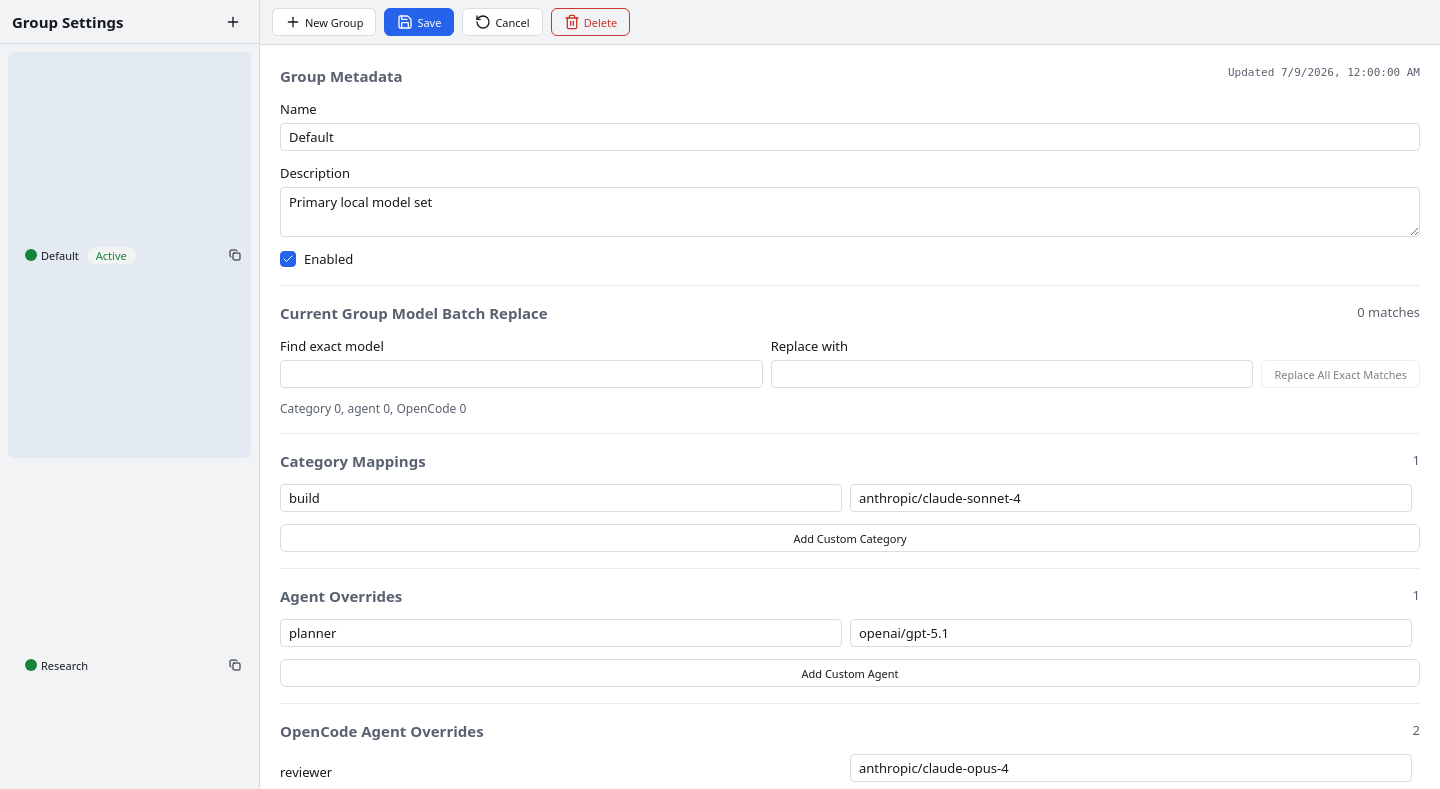
Test: Groups settings components › keeps list actions, selection, badges, metadata, mappings, and replace behavior
Expected: the heading "Group Settings" is shown, [12,10,123,32]
Expected: the icon "Active" is shown, [87,246,136,264]
Type "anthropic/claude-sonnet-4" into the field labelled "Find exact model" at (521, 374), box [280,360,763,388]
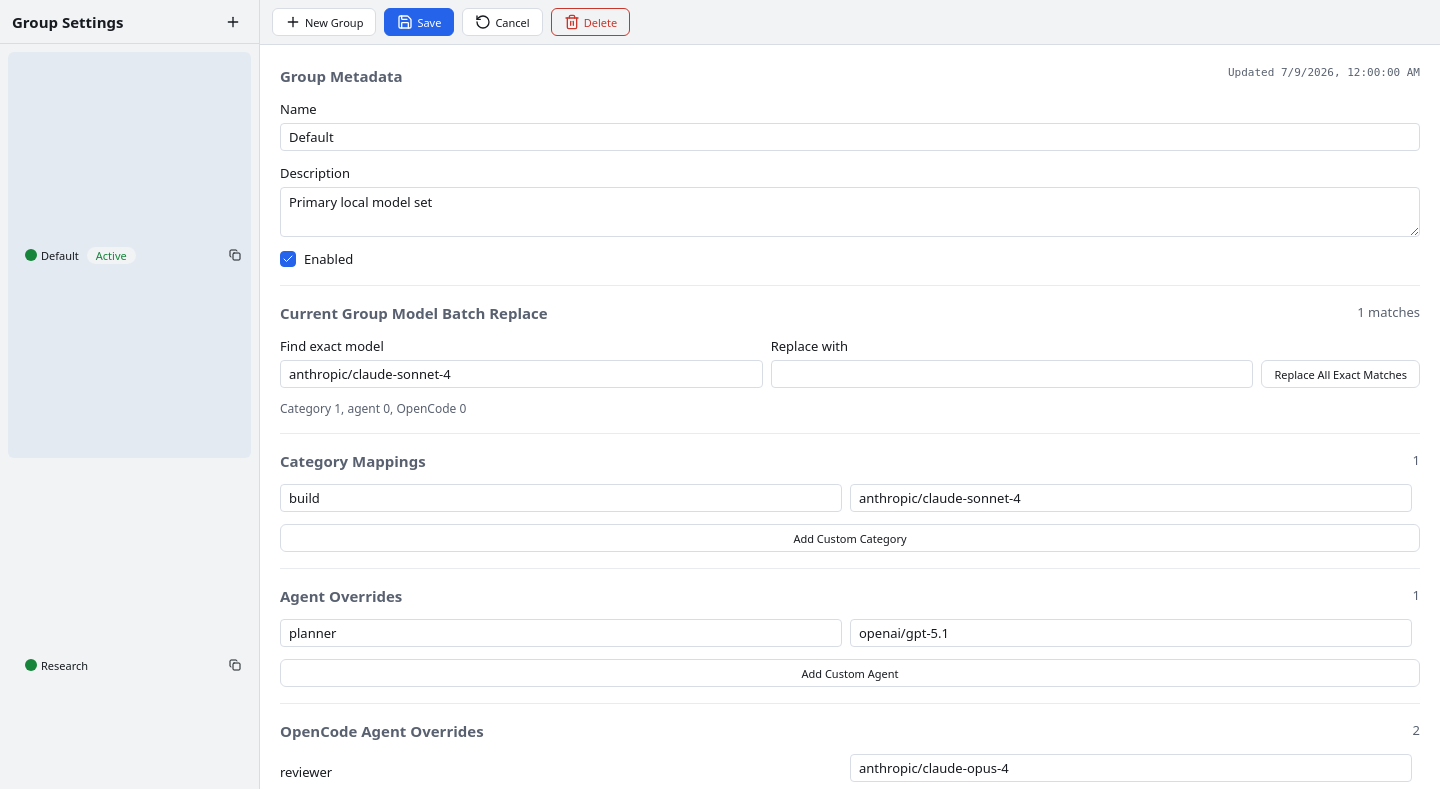
Type "openai/gpt-5.2" into the field labelled "Replace with" at (1012, 374), box [771,360,1253,388]
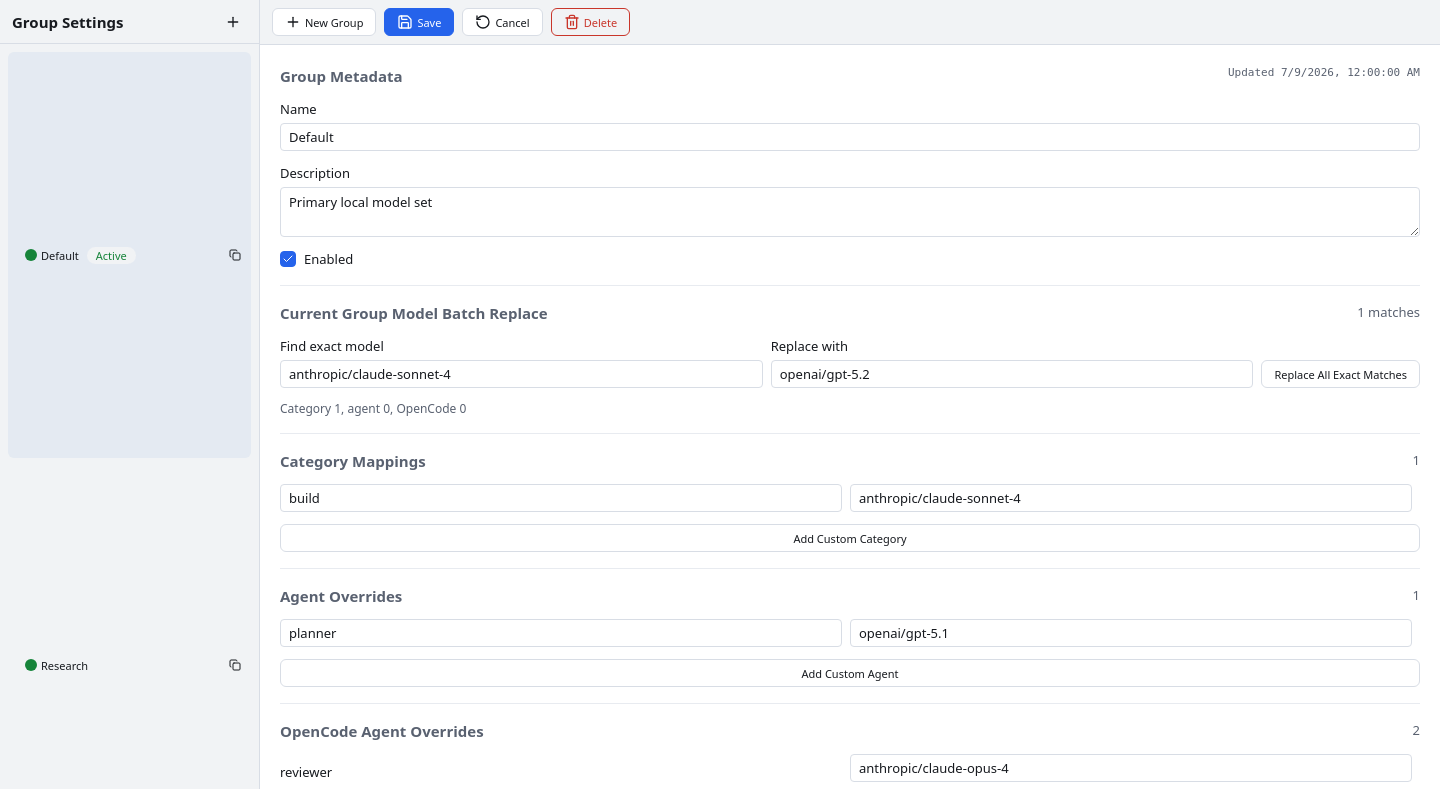
Click the button "Replace All Exact Matches" at (1341, 374), box [1261,360,1420,388]
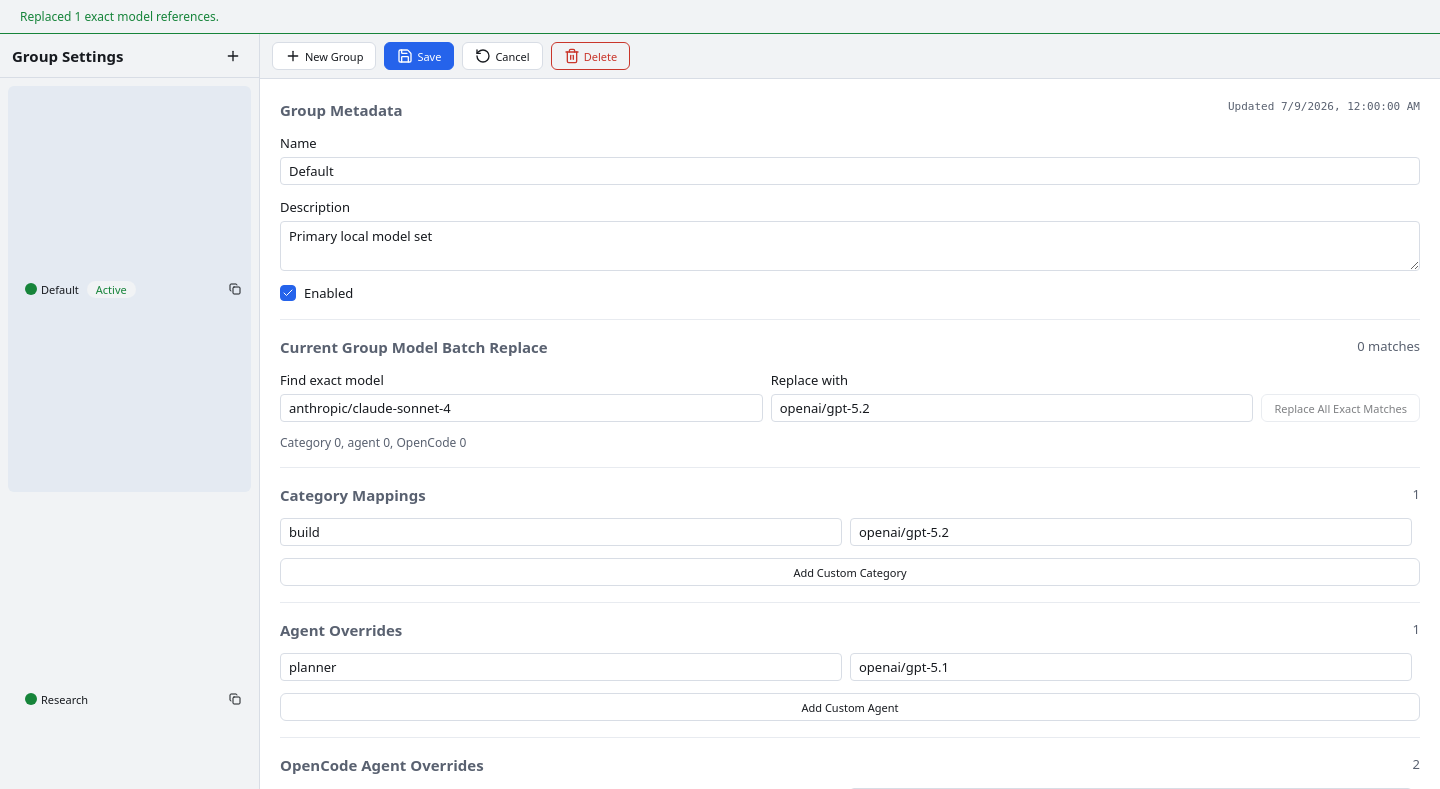
Expected: the button named "New Group" is shown, [219,42,247,70]
Expected: the field named "Category model 1" holds "openai/gpt-5.2", [850,518,1412,546]
